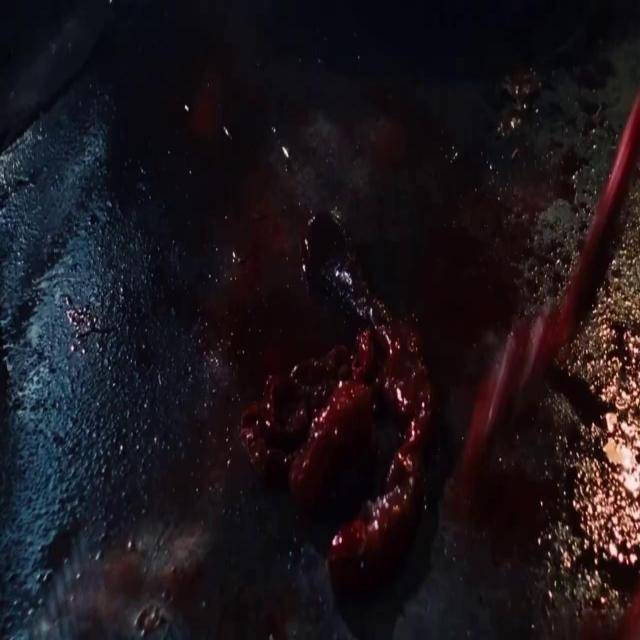flood: (191, 154, 588, 612)
